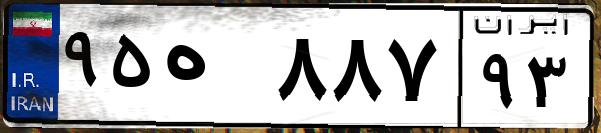3: (525, 38, 570, 115)
5: (110, 28, 158, 98)
7: (385, 28, 445, 110)
8: (270, 28, 330, 110), (330, 28, 385, 110)
9: (57, 26, 110, 100), (475, 38, 525, 113)
ه: (158, 20, 270, 120)
